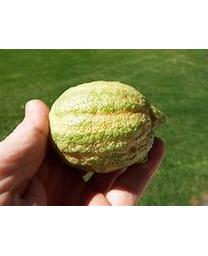lemon: (48, 81, 169, 172)
